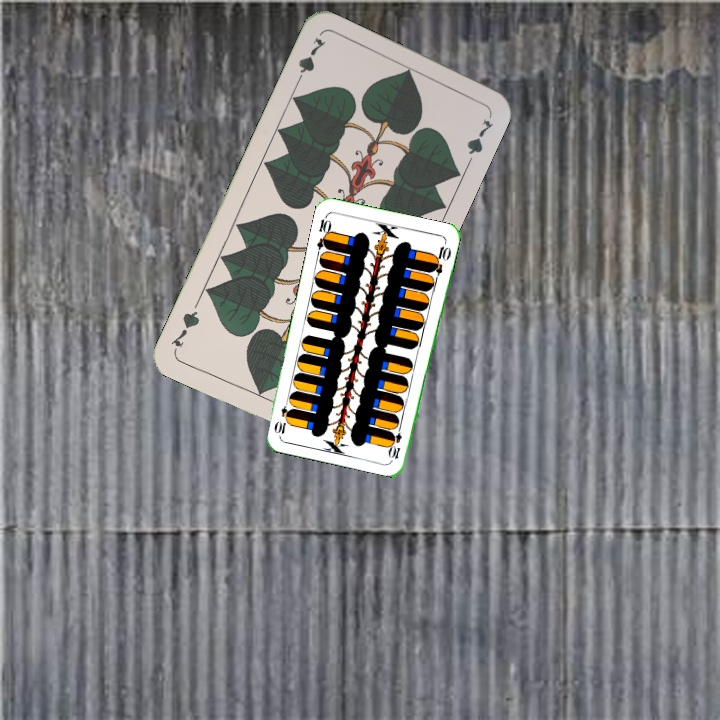E10: (312, 212, 334, 252), (388, 421, 404, 461)
G7: (291, 33, 329, 89)
